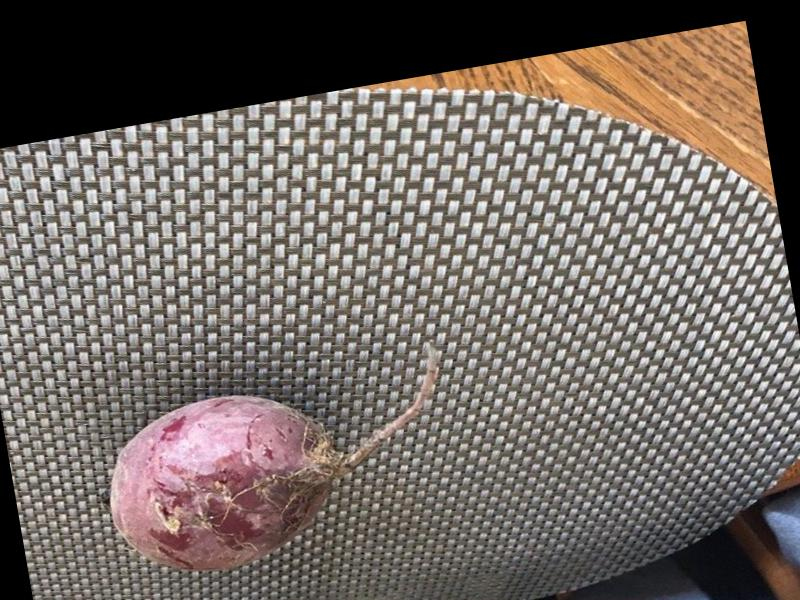Beet: (95, 340, 468, 587)
